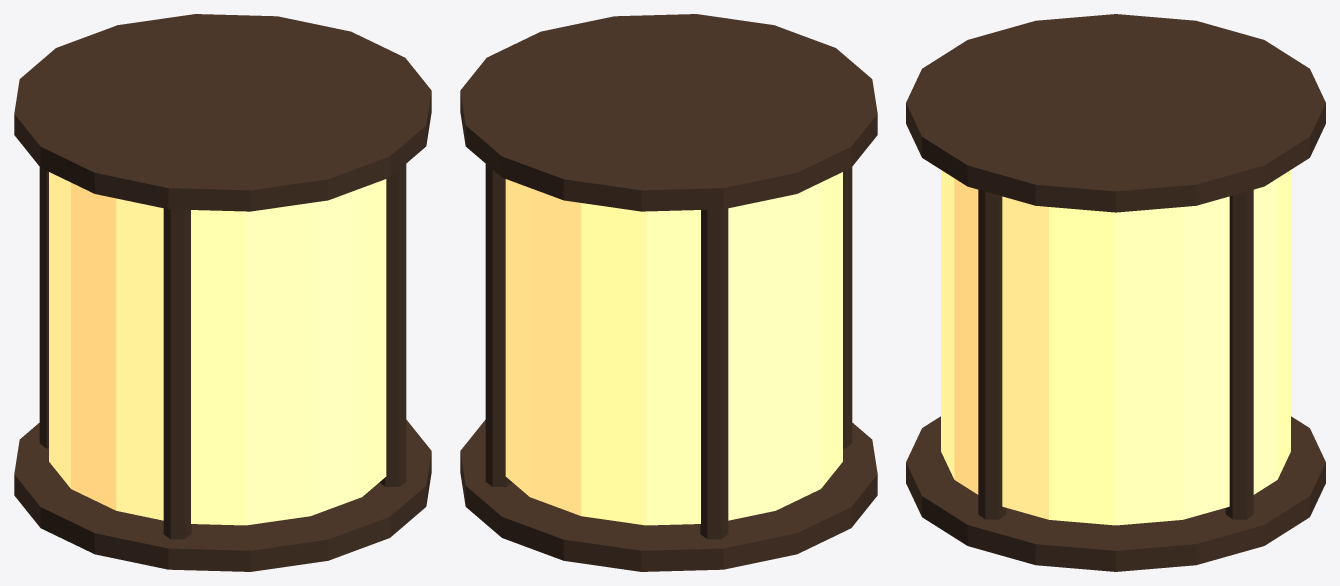
Rendered from item_wooden_lantern.glb.
3 views of the same model, side by side, from view 1: azimuth 30°, elevation 25°; view 2: azimuth 150°, elevation 25°; view 3: azimuth 270°, elevation 25° (orthographic).
Visible parts, largest first — view 1: ITEM_WoodenLantern; view 2: ITEM_WoodenLantern; view 3: ITEM_WoodenLantern.
Boxes of the visible parts, box(x1,y1,x2,y2) form: ITEM_WoodenLantern: box(14, 14, 431, 571); ITEM_WoodenLantern: box(460, 14, 877, 571); ITEM_WoodenLantern: box(906, 14, 1325, 571).
Size of the model in its own units: 0.36 by 0.36 by 0.36.
